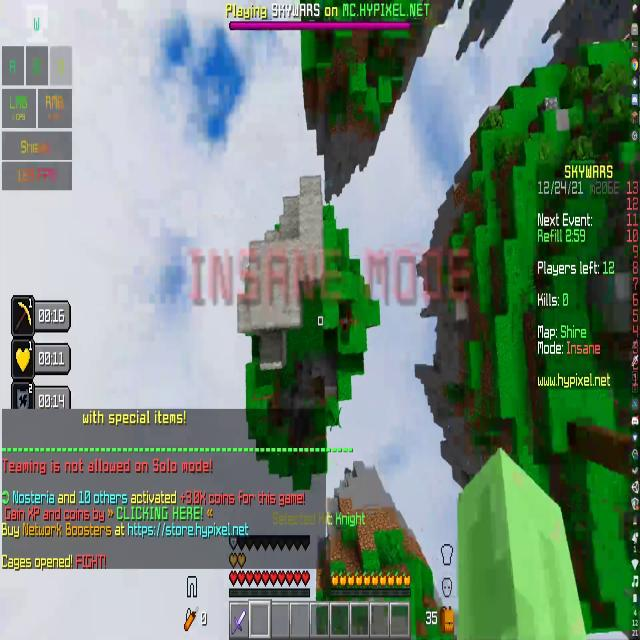Player: (336, 305, 359, 338)
